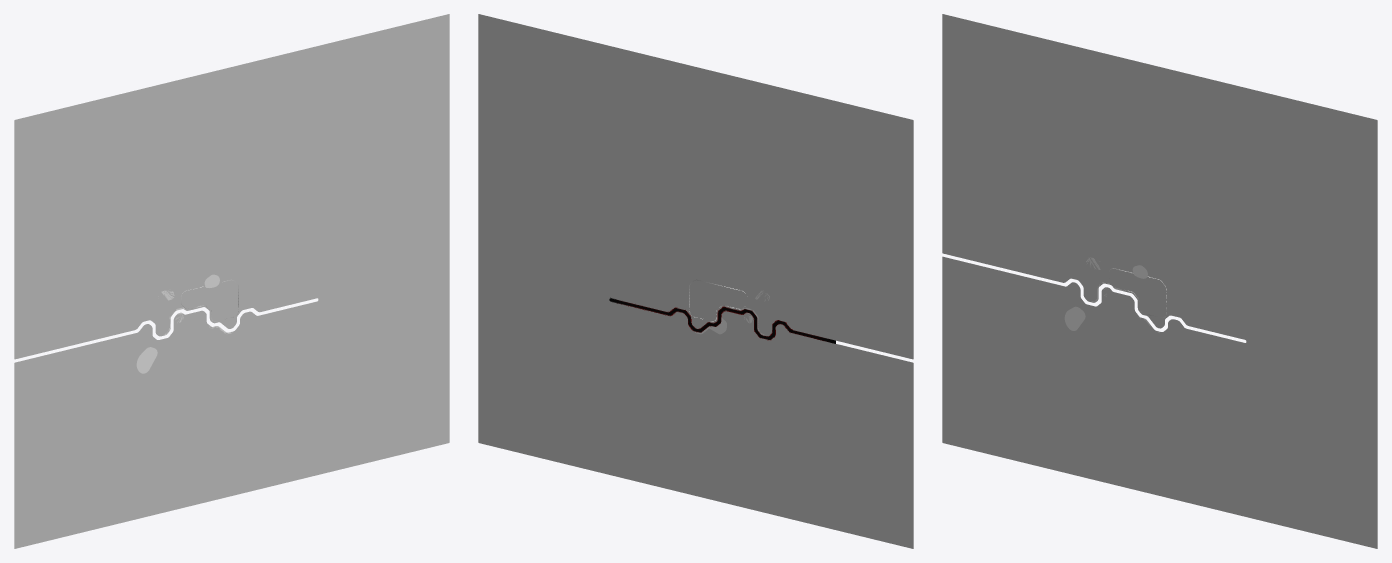
Rendered from London.glb.
3 views of the same model, side by side, from view 1: azimuth 30°, elevation 25°; view 2: azimuth 150°, elevation 25°; view 3: azimuth 330°, elevation 25° (orthographic).
Parts seen in each view (by area): view 1: MSH_MAP_London_Land, MSH_MAP_London_Grass; view 2: MSH_MAP_London_Land, MSH_MAP_London_Water; view 3: MSH_MAP_London_Land, MSH_MAP_London_Grass.
Part boxes in pixels (x1=…): MSH_MAP_London_Land: x1=14, y1=14, x2=449, y2=548; MSH_MAP_London_Grass: x1=136, y1=274, x2=219, y2=373; MSH_MAP_London_Land: x1=478, y1=14, x2=913, y2=548; MSH_MAP_London_Water: x1=609, y1=297, x2=835, y2=343; MSH_MAP_London_Land: x1=942, y1=14, x2=1377, y2=548; MSH_MAP_London_Grass: x1=1064, y1=265, x2=1147, y2=330.
Bounding box in the file's own units: 289 × 272 × 0.000724.
5 materials, 1 textured.
